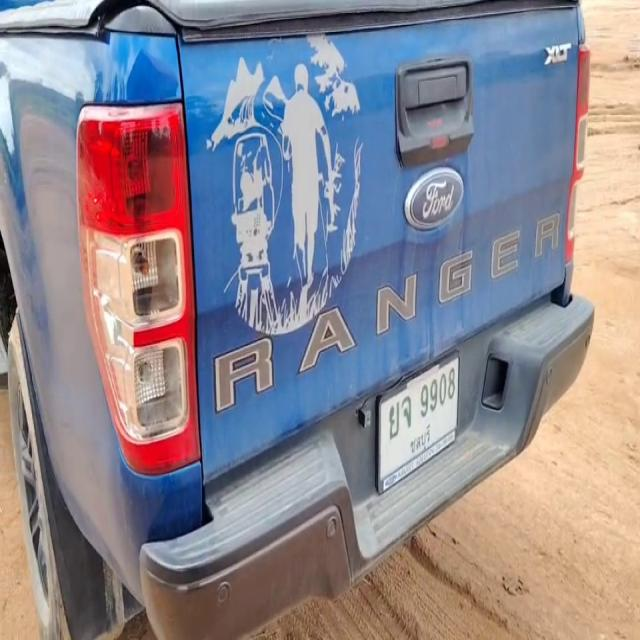Digit: (420, 362, 457, 422)
Licenseplate: (375, 340, 463, 506)
Provincename: (407, 419, 433, 460)
Thaichar: (386, 387, 412, 441)
